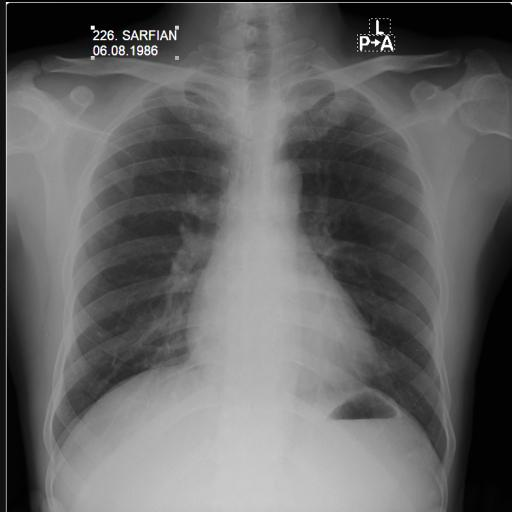normal: (30, 36, 464, 468)
